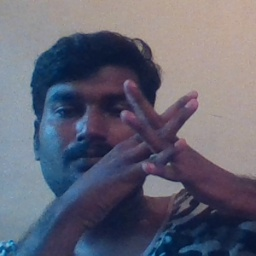W: (102, 76, 219, 196)
